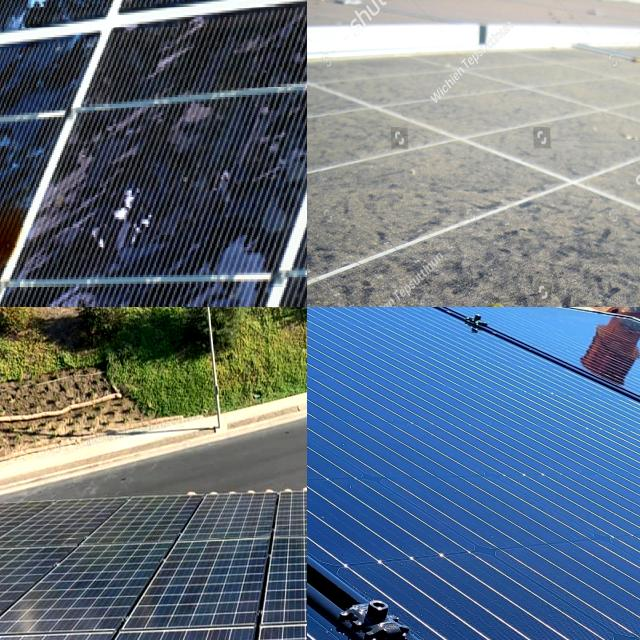bird: (469, 280, 518, 307)
crack: (399, 500, 640, 616), (408, 326, 537, 424), (337, 315, 465, 405), (337, 402, 440, 493), (538, 401, 640, 481), (511, 578, 640, 640), (365, 388, 492, 448), (51, 556, 131, 623), (158, 584, 254, 626), (319, 307, 377, 343), (270, 572, 307, 616), (274, 493, 307, 534)
shadow: (0, 187, 54, 296)
